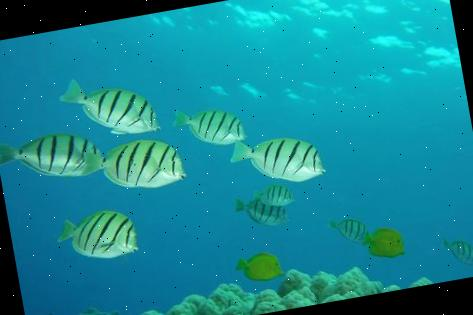fish: (56, 66, 156, 144), (79, 131, 185, 198), (0, 125, 104, 187), (227, 125, 324, 191), (53, 206, 139, 266), (171, 97, 245, 150), (232, 188, 292, 230), (233, 249, 285, 285), (326, 211, 372, 249), (361, 224, 405, 262), (250, 181, 292, 208), (443, 234, 473, 268)
